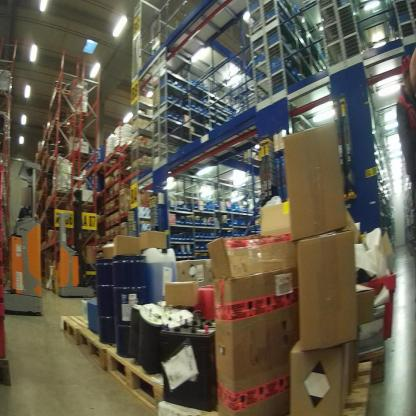forklift: (2, 154, 43, 323), (53, 184, 106, 300)
pallet: (104, 347, 170, 407), (335, 354, 374, 415), (354, 337, 396, 389), (56, 311, 108, 351), (78, 327, 111, 371)
small_load_carrier: (357, 262, 398, 345)
